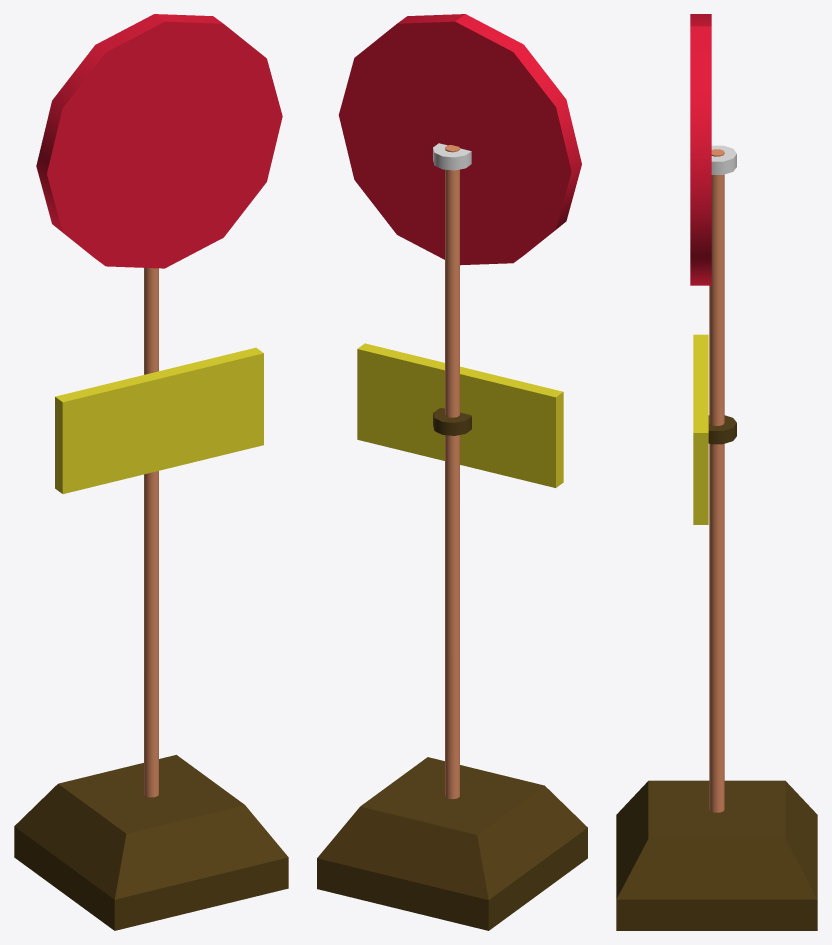
The model's file is sign1.fbx.
The picture shows the model from 3 angles, left to right: view 1: azimuth 30°, elevation 25°; view 2: azimuth 150°, elevation 25°; view 3: azimuth 270°, elevation 25°; orthographic projection.
Parts seen in each view (by area): view 1: Cylinder.003; view 2: Cylinder.003; view 3: Cylinder.003.
Boxes of the visible parts, x1,y1,x2,y2 form: Cylinder.003: (14, 14, 288, 930); Cylinder.003: (317, 14, 587, 930); Cylinder.003: (616, 14, 817, 930).
Size of the model in its own units: 200 by 698 by 147.
